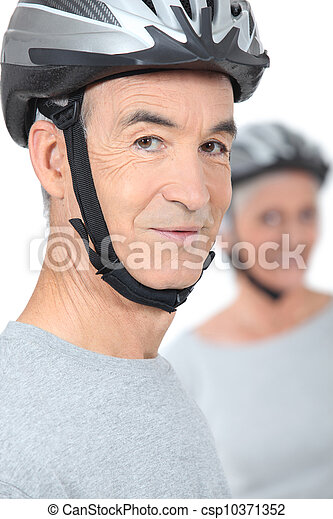helmet: (1, 1, 270, 290)
